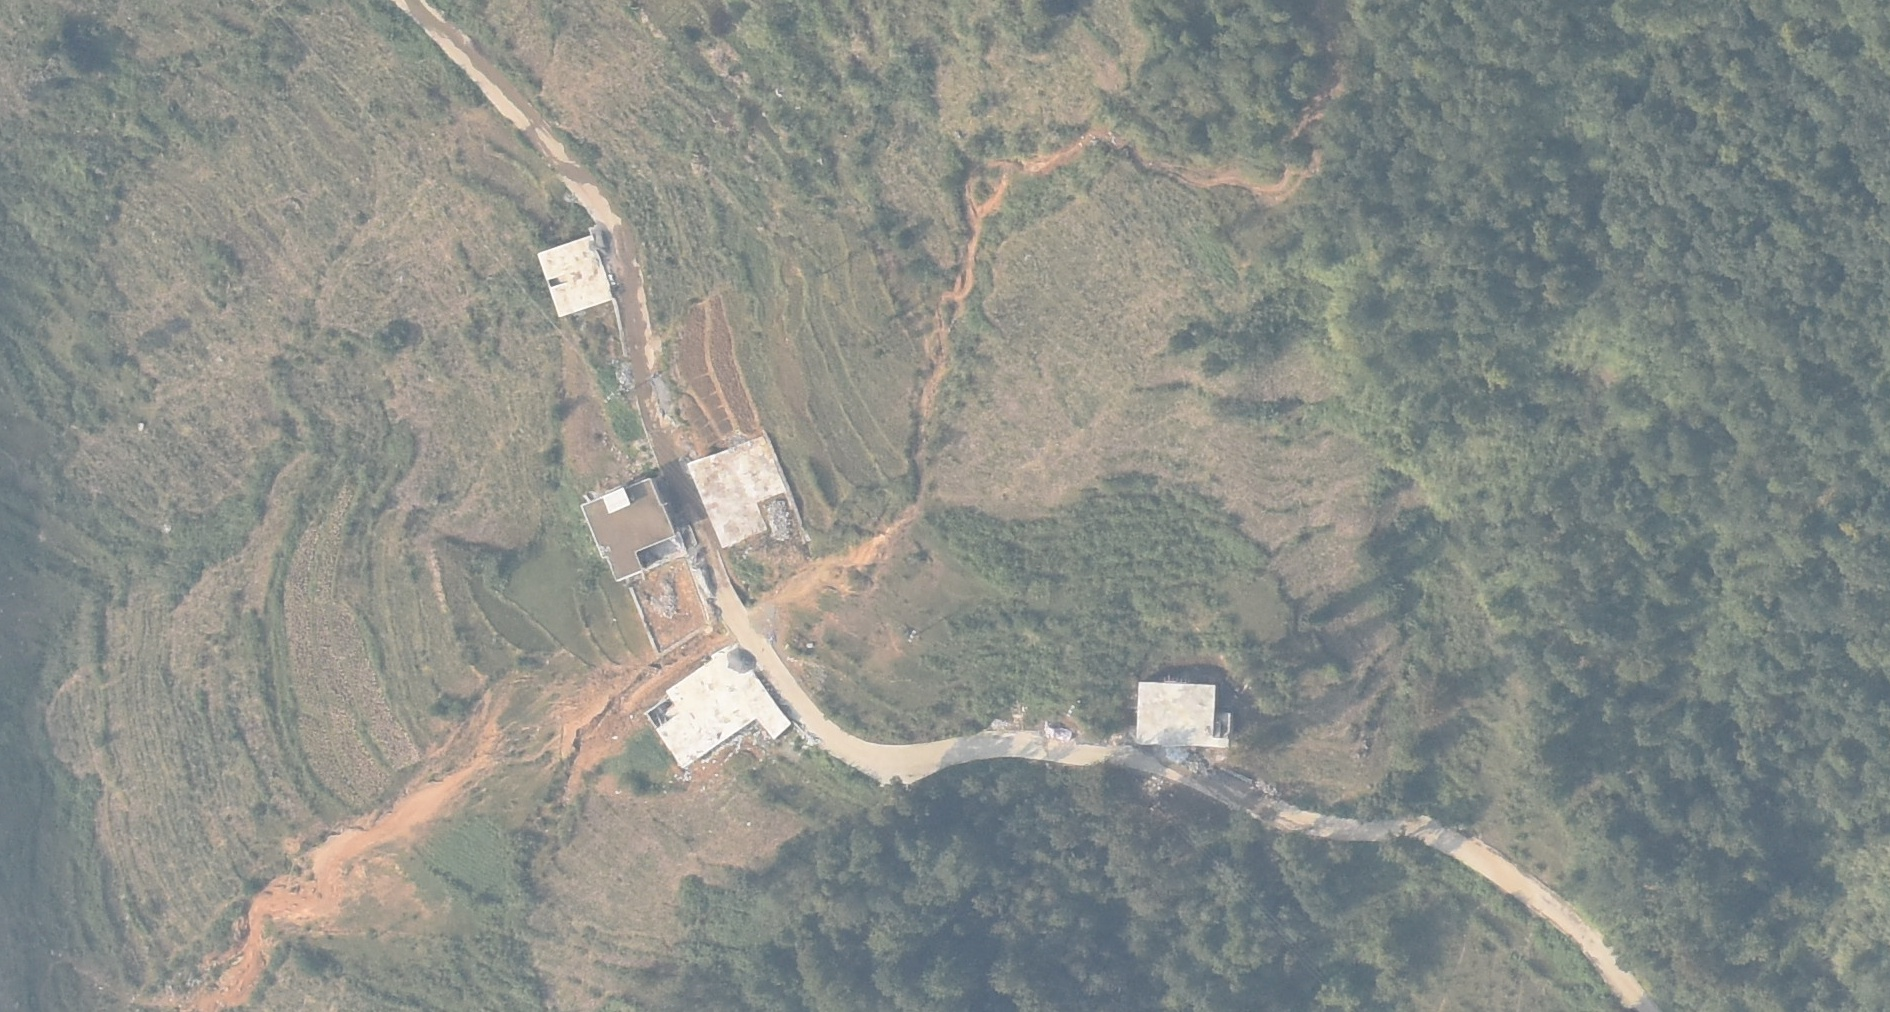building: (629, 643, 804, 766), (685, 427, 802, 548), (567, 479, 699, 586), (1127, 670, 1237, 757), (535, 231, 619, 324)
